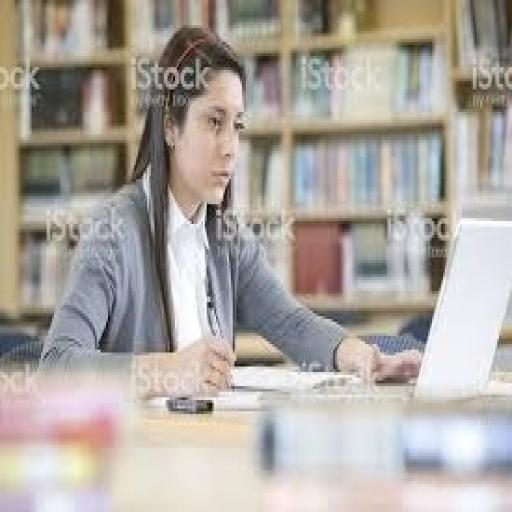using_laptop: (294, 212, 510, 406)
